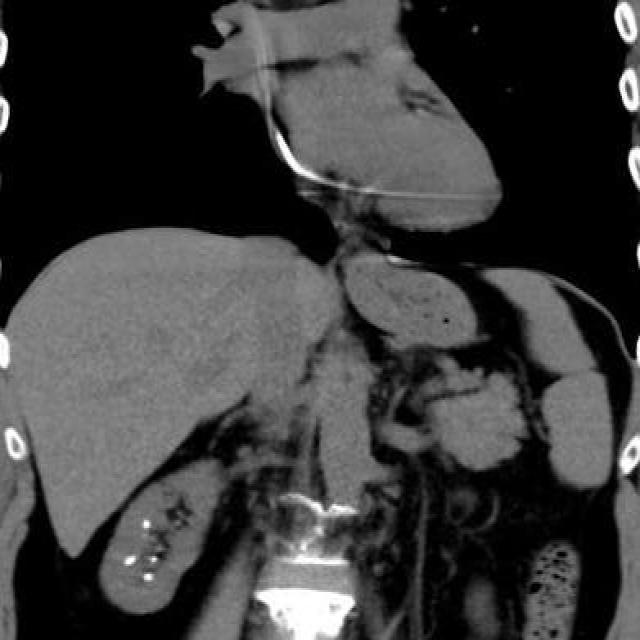Tas_Var: (122, 552, 137, 566), (146, 554, 160, 564), (142, 517, 152, 529), (142, 572, 154, 582)
